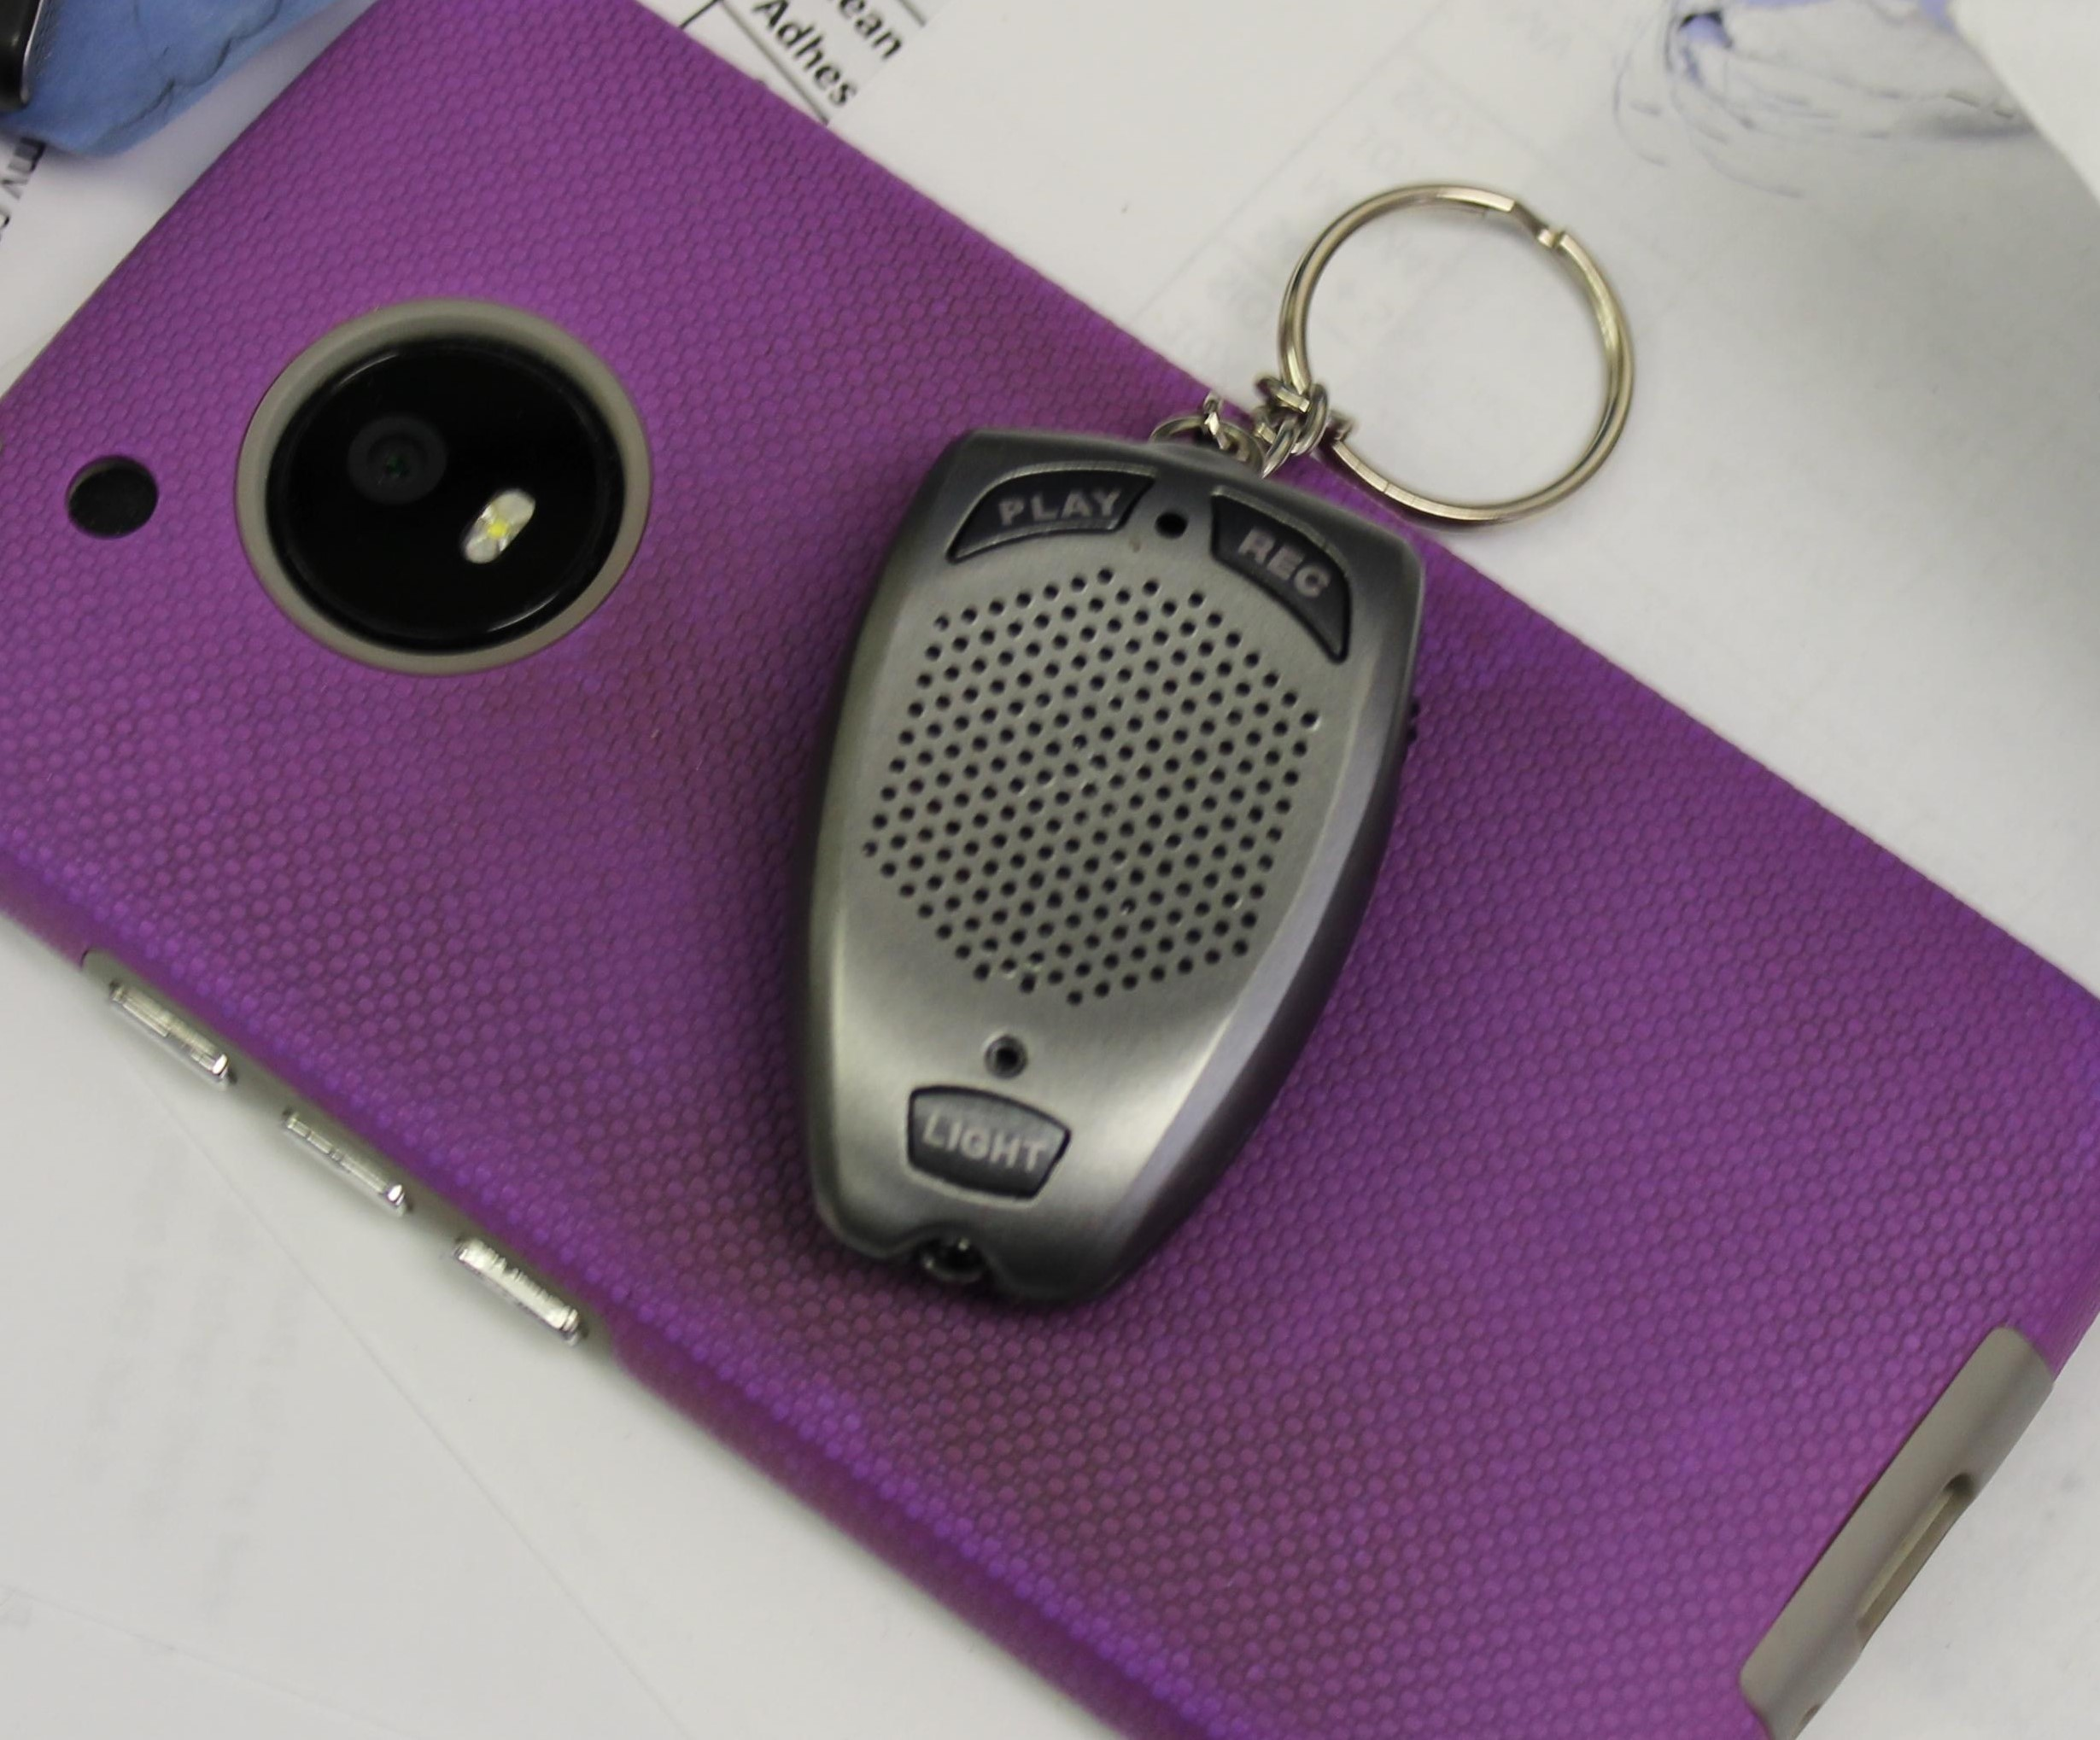voiceRecorder: (741, 136, 1692, 1374)
